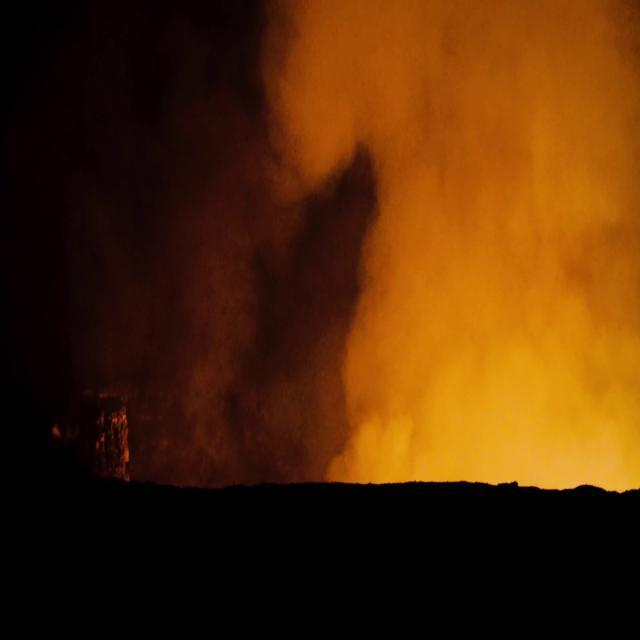Smoke: (309, 4, 640, 474), (78, 0, 285, 512)
